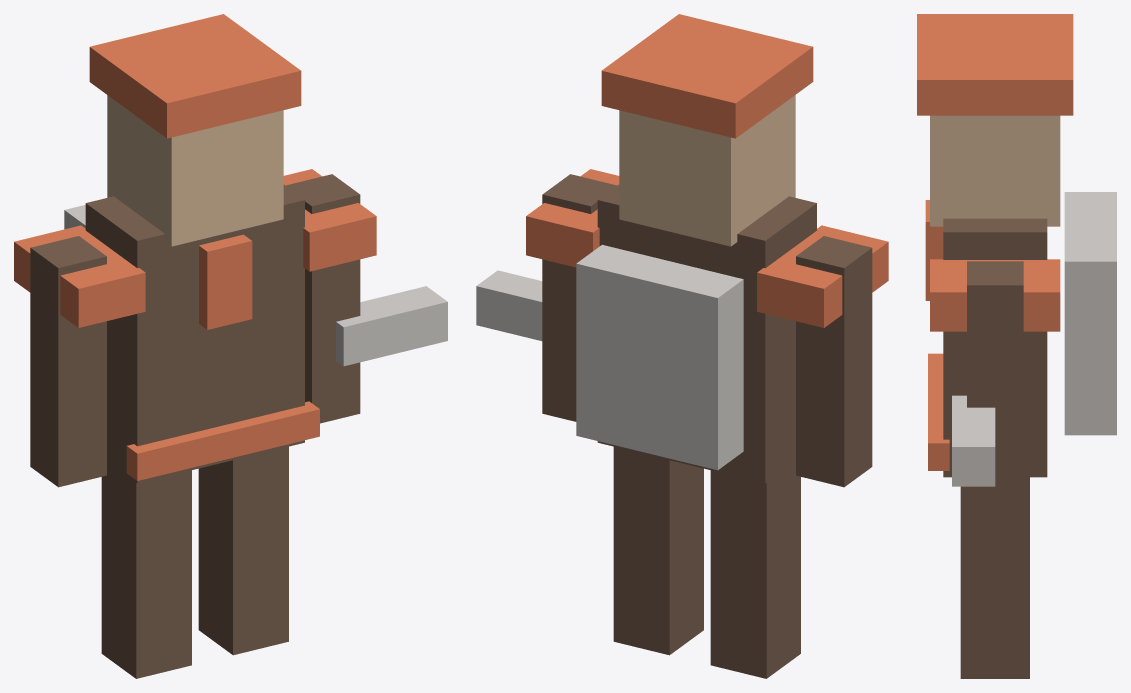
The model's file is 13_lyric_trenchmark_operator_from_dormitory.glb.
3 views of the same model, side by side, from view 1: azimuth 30°, elevation 25°; view 2: azimuth 150°, elevation 25°; view 3: azimuth 270°, elevation 25° (orthographic).
Parts seen in each view (by area): view 1: Lyric Trenchmark, Operator from Dormitory; view 2: Lyric Trenchmark, Operator from Dormitory; view 3: Lyric Trenchmark, Operator from Dormitory.
Part boxes in pixels (left/top/right/bottom): Lyric Trenchmark, Operator from Dormitory: left=14, top=14, right=447, bottom=678; Lyric Trenchmark, Operator from Dormitory: left=476, top=14, right=888, bottom=678; Lyric Trenchmark, Operator from Dormitory: left=917, top=14, right=1116, bottom=678.
Bounding box in the file's own units: 0.9436 × 1.39 × 0.4235.
